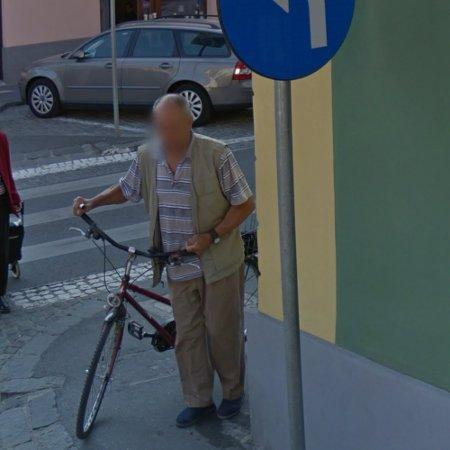bicycles: (76, 214, 186, 440)
